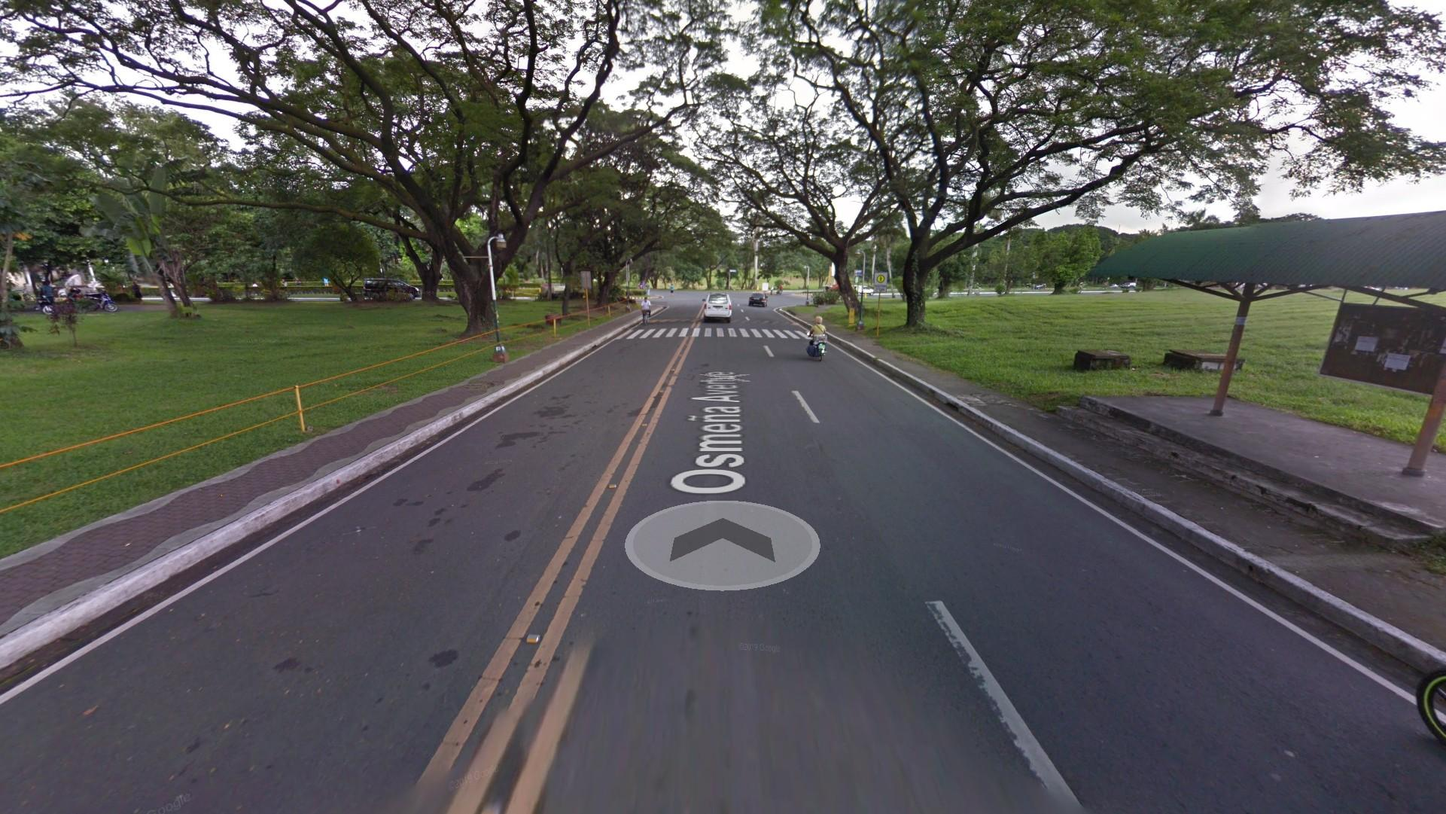cyclist: (640, 295, 652, 327)
pedestrian: (670, 283, 675, 296), (770, 286, 774, 295)
